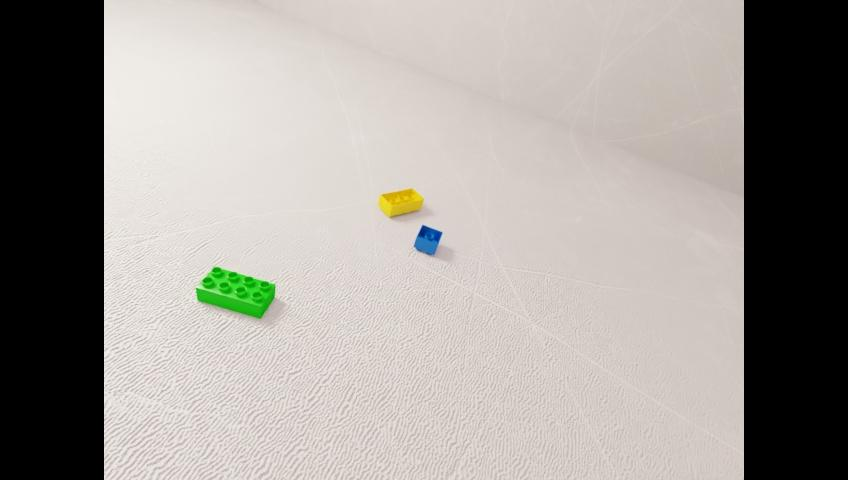2x2_blue: (413, 224, 442, 254)
4x2_green: (195, 265, 274, 318)
4x2_yellow: (377, 187, 423, 216)
